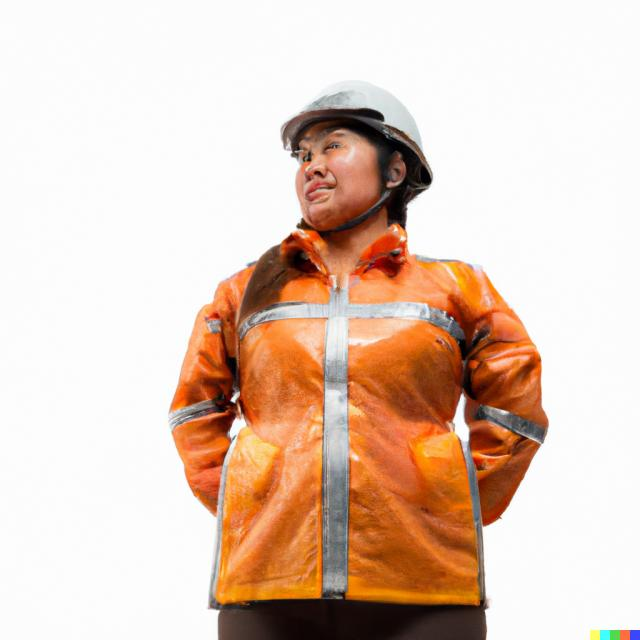Reflective-Jacket: (199, 234, 531, 616)
Safety-Helmet: (272, 72, 442, 188)
